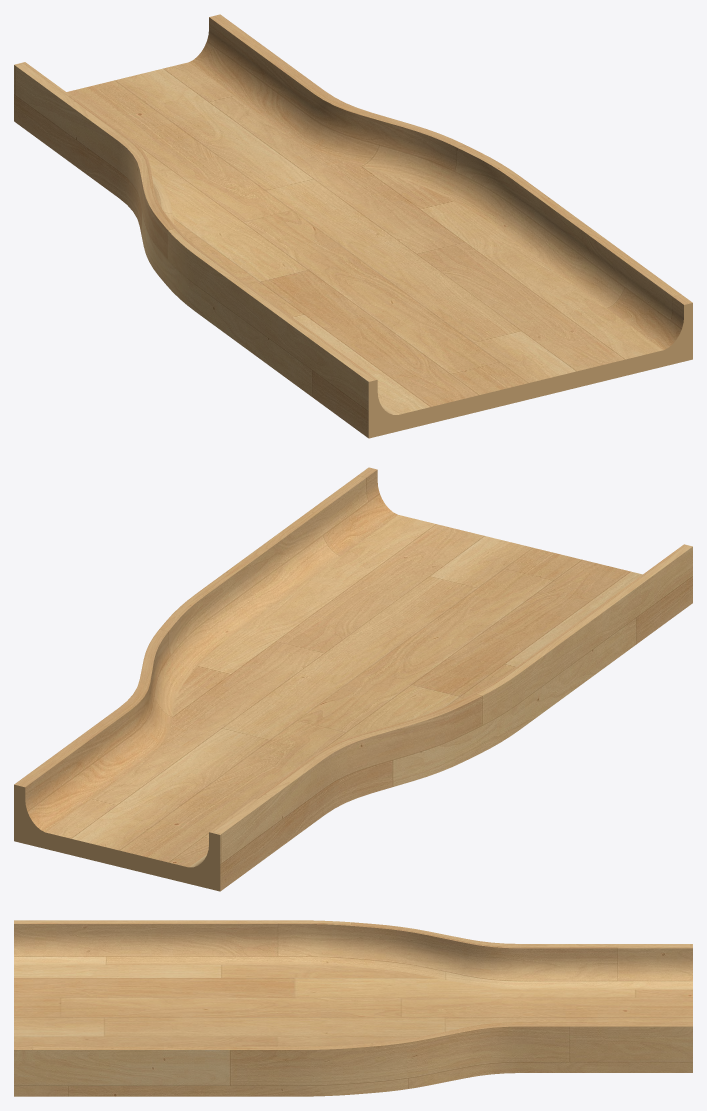
File: Road2.fbx
3 renders of one model, top to bottom at view 1: azimuth 30°, elevation 25°; view 2: azimuth 150°, elevation 25°; view 3: azimuth 270°, elevation 25°, orthographic. The views are drawn at different scales.
Parts seen in each view (by area): view 1: wideRoad; view 2: wideRoad; view 3: wideRoad.
Boxes of the visible parts, left/top/right/bottom form: wideRoad: left=14, top=14, right=692, bottom=438; wideRoad: left=14, top=467, right=692, bottom=891; wideRoad: left=14, top=920, right=692, bottom=1096.
Size of the model in its own units: 844 by 141 by 1866.
